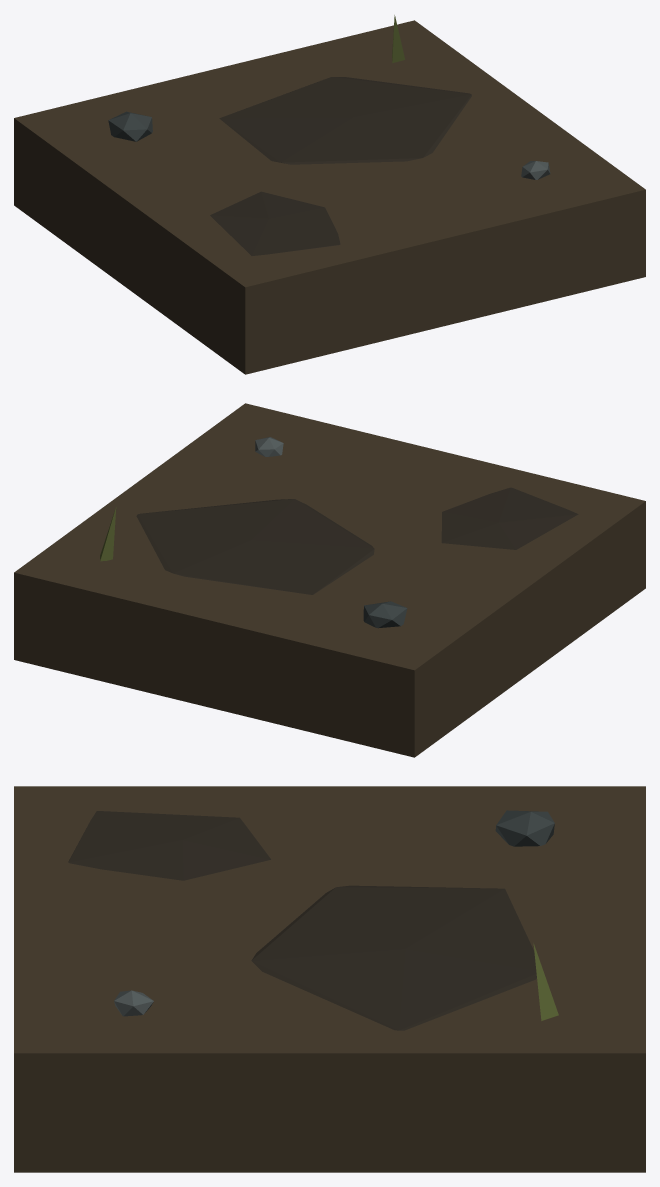
Rendered from tile_mud.glb.
3 renders of one model, top to bottom at view 1: azimuth 30°, elevation 25°; view 2: azimuth 150°, elevation 25°; view 3: azimuth 270°, elevation 25°, orthographic. The views are drawn at different scales.
Parts seen in each view (by area): view 1: tile_mud; view 2: tile_mud; view 3: tile_mud.
Part boxes in pixels (bbox=[...]): tile_mud: bbox=[14, 15, 645, 374]; tile_mud: bbox=[14, 403, 645, 757]; tile_mud: bbox=[14, 786, 645, 1172].
Bounding box in the file's own units: 0.96 × 0.317 × 0.96.
